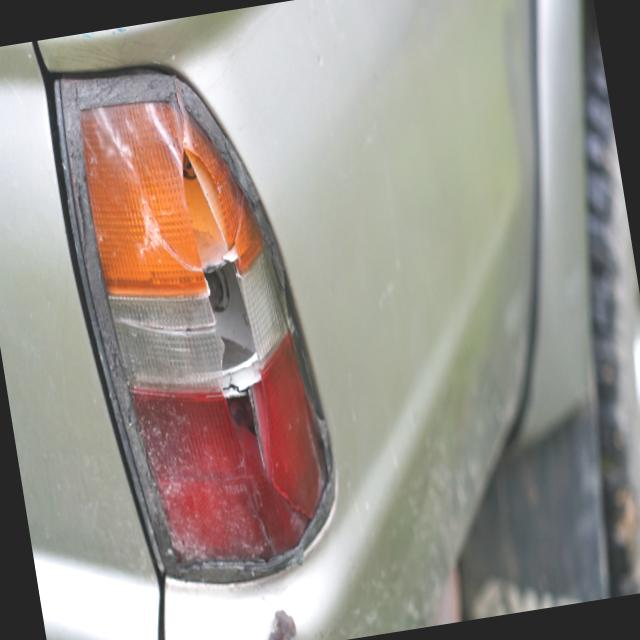Phare abime: (151, 76, 310, 543)
Rayure: (252, 592, 297, 640)
